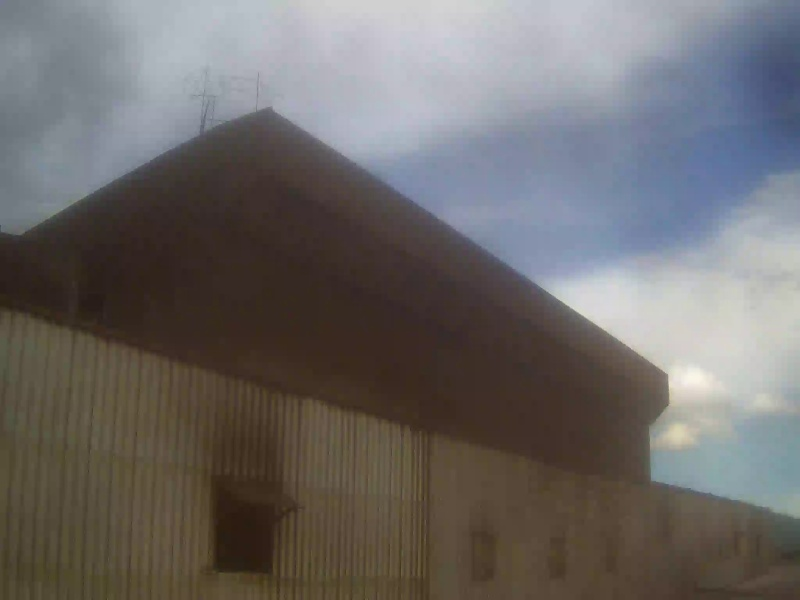bom: (259, 45, 709, 402), (599, 263, 781, 471), (22, 7, 276, 146)
